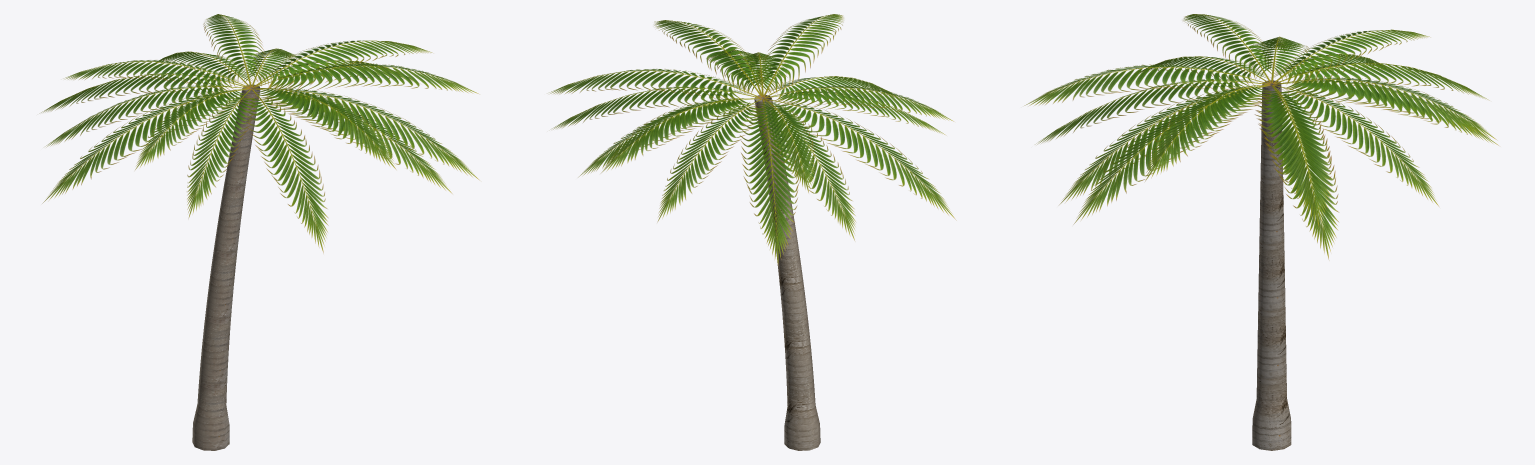
File: palm_02.gltf
3 views of the same model, side by side, from view 1: azimuth 30°, elevation 25°; view 2: azimuth 150°, elevation 25°; view 3: azimuth 270°, elevation 25° (orthographic). The views are drawn at different scales.
Visible parts, largest first — view 1: Fronds, Trunk; view 2: Fronds, Trunk; view 3: Fronds, Trunk.
Part boxes in pixels (box(x1,y1,x2,y2)): Fronds: box(41, 14, 479, 253); Trunk: box(192, 84, 260, 450); Fronds: box(549, 14, 956, 265); Trunk: box(754, 95, 820, 450); Fronds: box(1024, 14, 1498, 259); Trunk: box(1252, 80, 1291, 450).
Bounding box in the file's own units: 8.34 × 6.93 × 7.92.
Materials: 2 (2 with a texture image).
